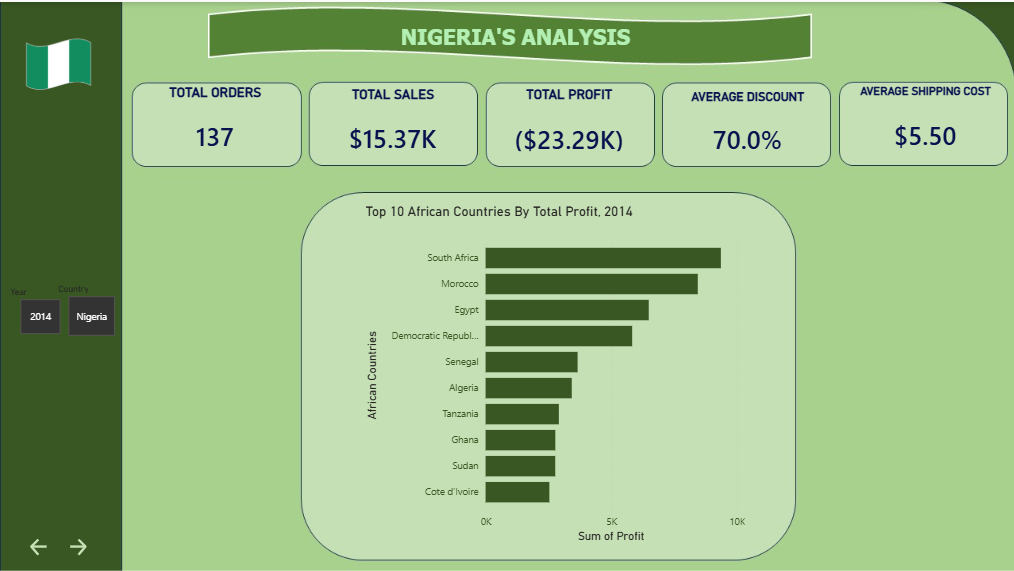

What the dashboard file says about the page in this screenshot:
{"tool":"powerbi","page":{"name":"Page 3","canvas":[1280,720],"ordinal":2},"visuals":[{"type":"cardVisual","title":"TOTAL ORDERS","fields":{"Data":["Measure Table.Total Orders"]},"box":[183.3,103.9,175.7,98.3],"z":0},{"type":"cardVisual","title":"TOTAL SALES","fields":{"Data":["Measure Table.Total Sales"]},"box":[398.7,105.8,192.8,96.4],"z":1000},{"type":"cardVisual","title":"TOTAL PROFIT","fields":{"Data":["Measure Table.Total Profit"]},"box":[616.1,105.8,202.2,100.2],"z":2000},{"type":"cardVisual","title":"AVERAGE DISCOUNT","fields":{"Data":["Measure Table.Average Discount"]},"box":[841,109.6,202.2,94.5],"z":3000},{"type":"cardVisual","title":"AVERAGE SHIPPING COST","fields":{"Data":["Measure Table.Average Shipping Cost"]},"box":[1065.8,103.9,200.3,98.3],"z":4000},{"type":"slicer","fields":{"Values":["Orders.Country"]},"box":[60.5,349.6,107.7,77.5],"z":5000},{"type":"barChart","title":"Top 10 African Countries By Total Profit, 2014","fields":{"Category":["Filtered_orders.African Countries"],"Y":["Sum(Filtered_orders.Profit)"]},"box":[455.4,253.2,487.6,432.8],"z":6000},{"type":"textbox","box":[315.6,22.7,627.4,43.5],"z":7000},{"type":"slicer","fields":{"Values":["Calendar Table.Year"]},"box":[0,353.4,100.2,71.8],"z":8000},{"type":"actionButton","box":[33.4,666.5,30,39.8],"z":9000},{"type":"actionButton","box":[82.7,666.5,30,39.8],"z":10000},{"type":"image","box":[32.1,22.7,83.2,111.5],"z":11000}]}

Visuals, with their boxes in screenshot pixels (x1, y1, x2, y2), scaled from the page's 1280x720 canvas onto the 1014x571 screenshot:
"TOTAL ORDERS" cardVisual: bbox=(145, 82, 284, 160)
"TOTAL SALES" cardVisual: bbox=(316, 84, 469, 160)
"TOTAL PROFIT" cardVisual: bbox=(488, 84, 648, 163)
"AVERAGE DISCOUNT" cardVisual: bbox=(666, 87, 826, 162)
"AVERAGE SHIPPING COST" cardVisual: bbox=(844, 82, 1003, 160)
slicer - Orders.Country: bbox=(48, 277, 133, 339)
"Top 10 African Countries By Total Profit, 2014" barChart: bbox=(361, 201, 747, 544)
textbox: bbox=(250, 18, 747, 53)
slicer - Calendar Table.Year: bbox=(0, 280, 79, 337)
actionButton: bbox=(26, 529, 50, 560)
actionButton: bbox=(66, 529, 89, 560)
image: bbox=(25, 18, 91, 106)
